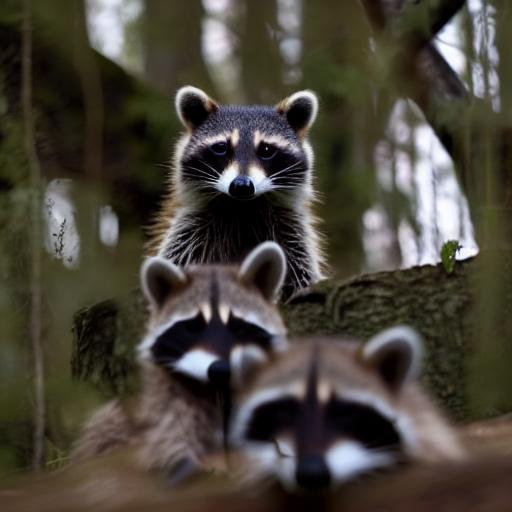raccoon: (217, 315, 472, 512), (141, 78, 332, 298), (123, 237, 301, 429)
